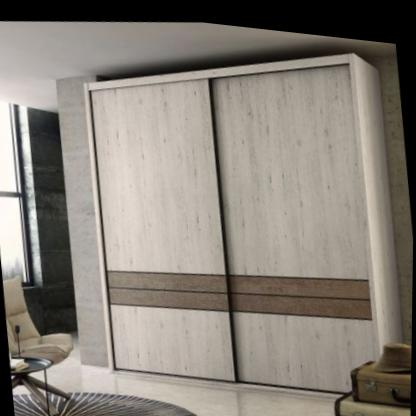Closet: (84, 45, 403, 385)
